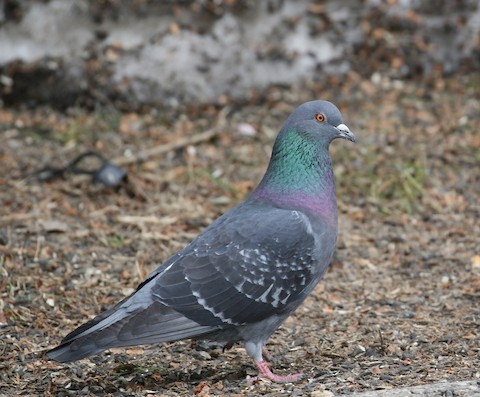pigeon: (31, 93, 364, 386)
